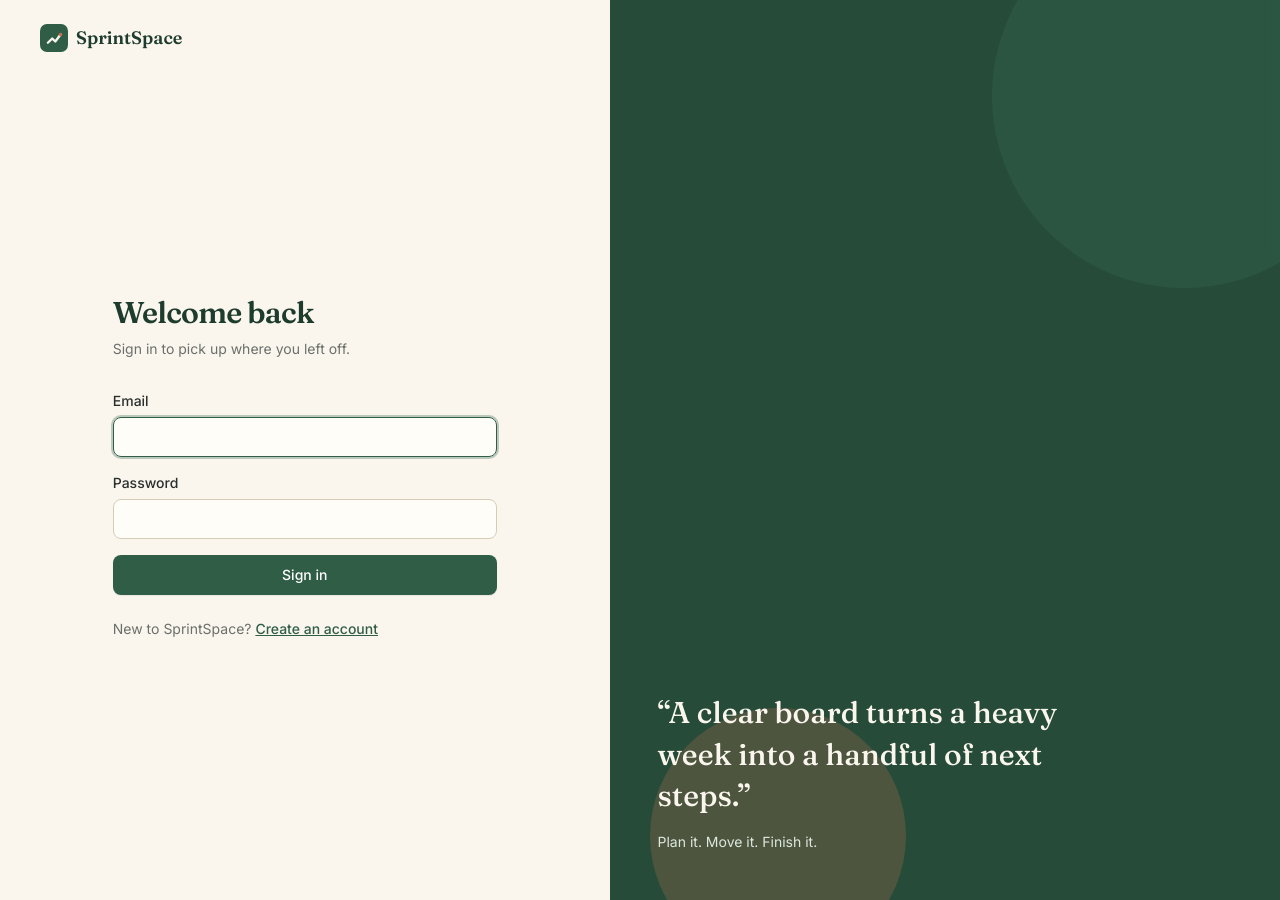
Test case: SignIn › shows the server message on bad credentials and prevents duplicate submits while pending
Type "ada@example.com" into the field labelled "Email". click: (305, 437)
box: x1=113 y1=417 x2=497 y2=457
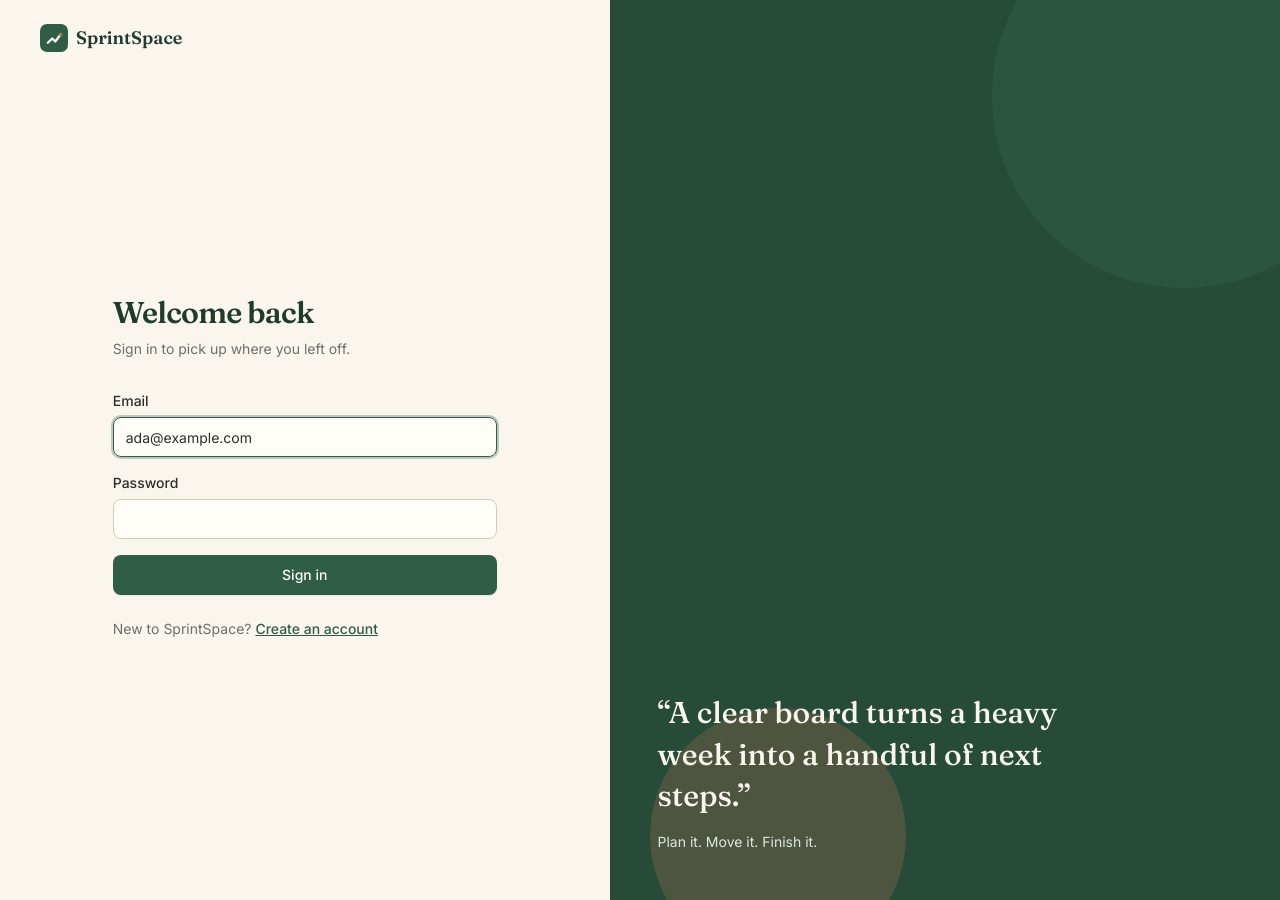
Type "wrongpass1" into the password field labelled "Password". click: (305, 519)
box: x1=113 y1=499 x2=497 y2=539
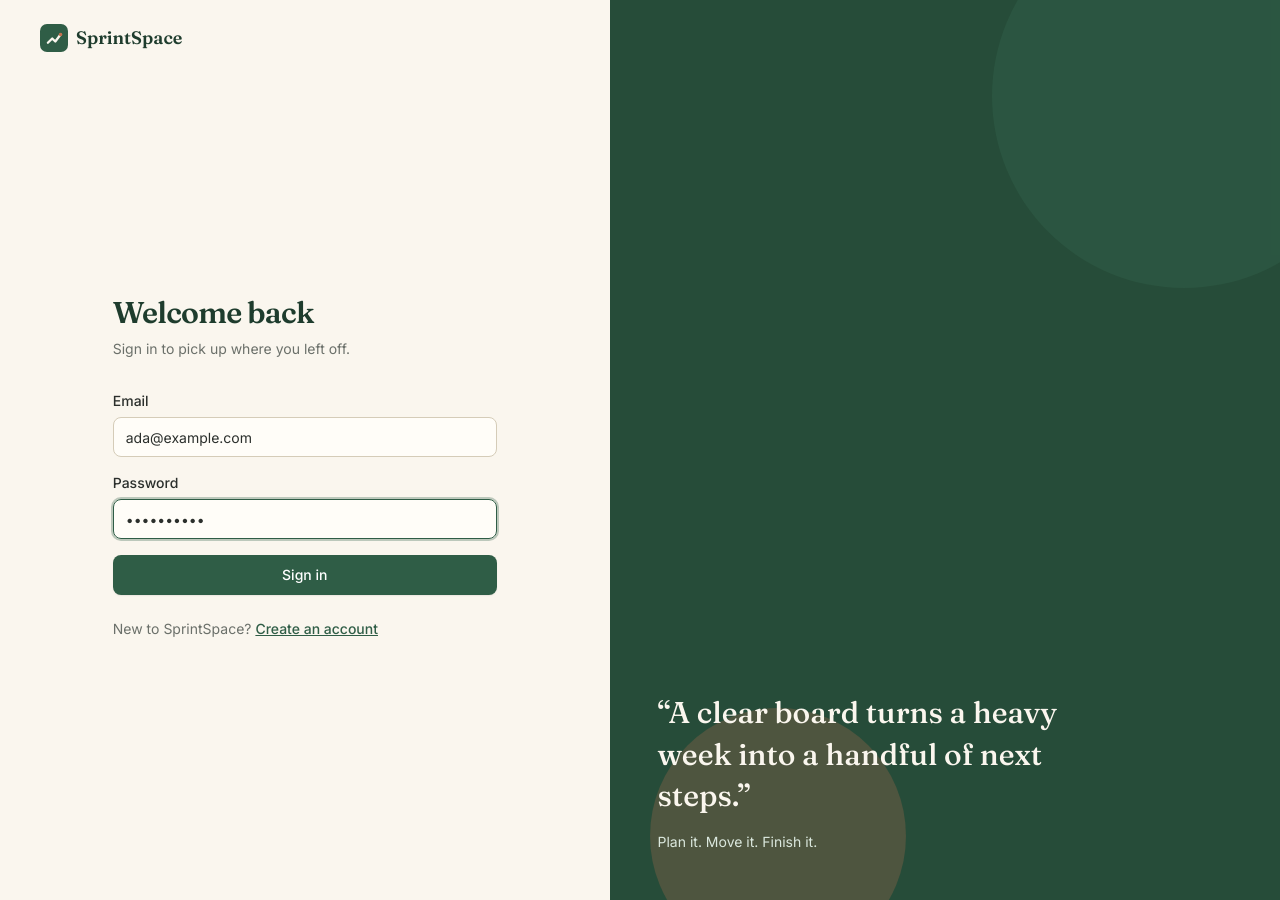
Click the button "Sign in". click: (305, 575)
box: x1=113 y1=555 x2=497 y2=595
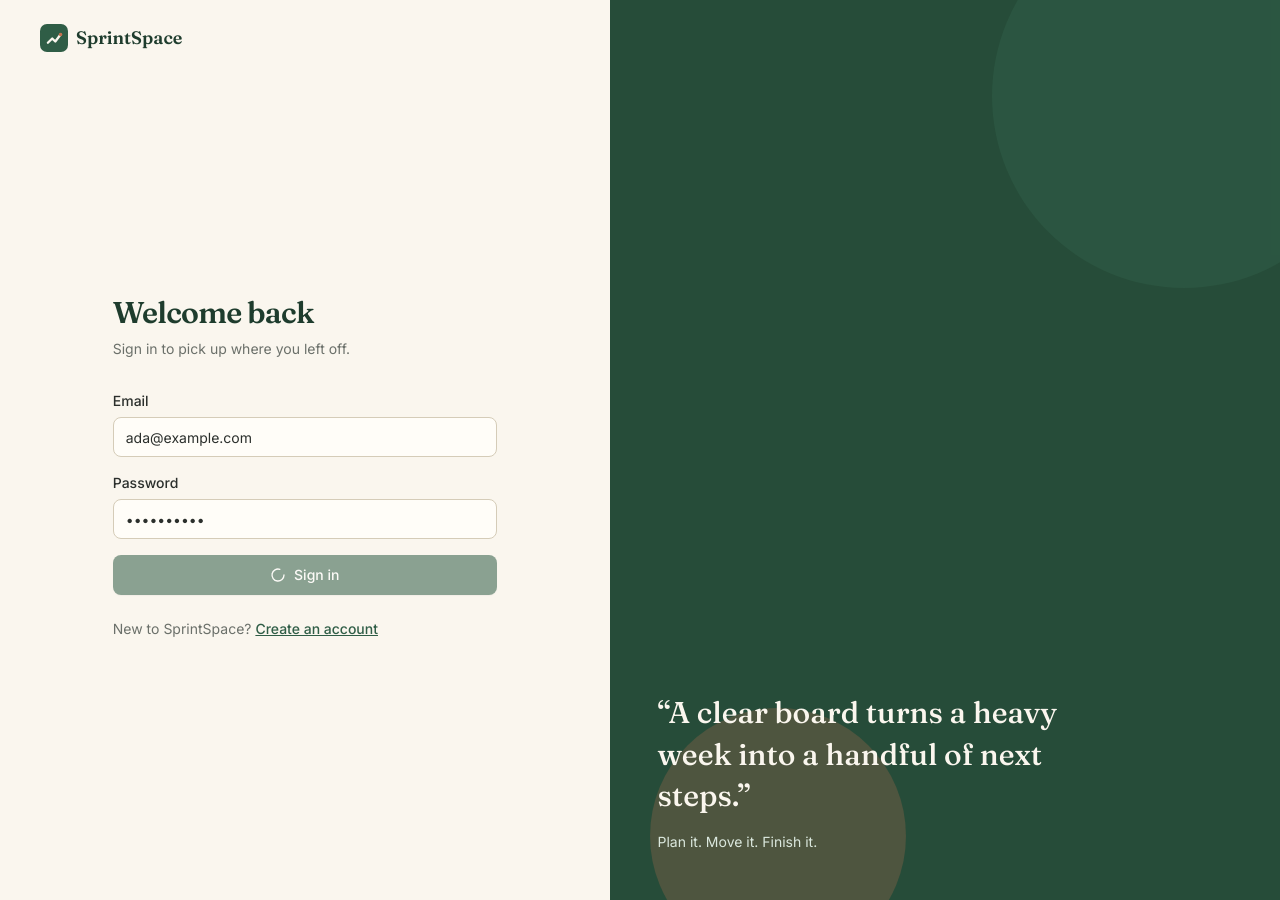
Result: the button "Sign in" is disabled
Click the button "Sign in". click: (305, 575)
box: x1=113 y1=555 x2=497 y2=595
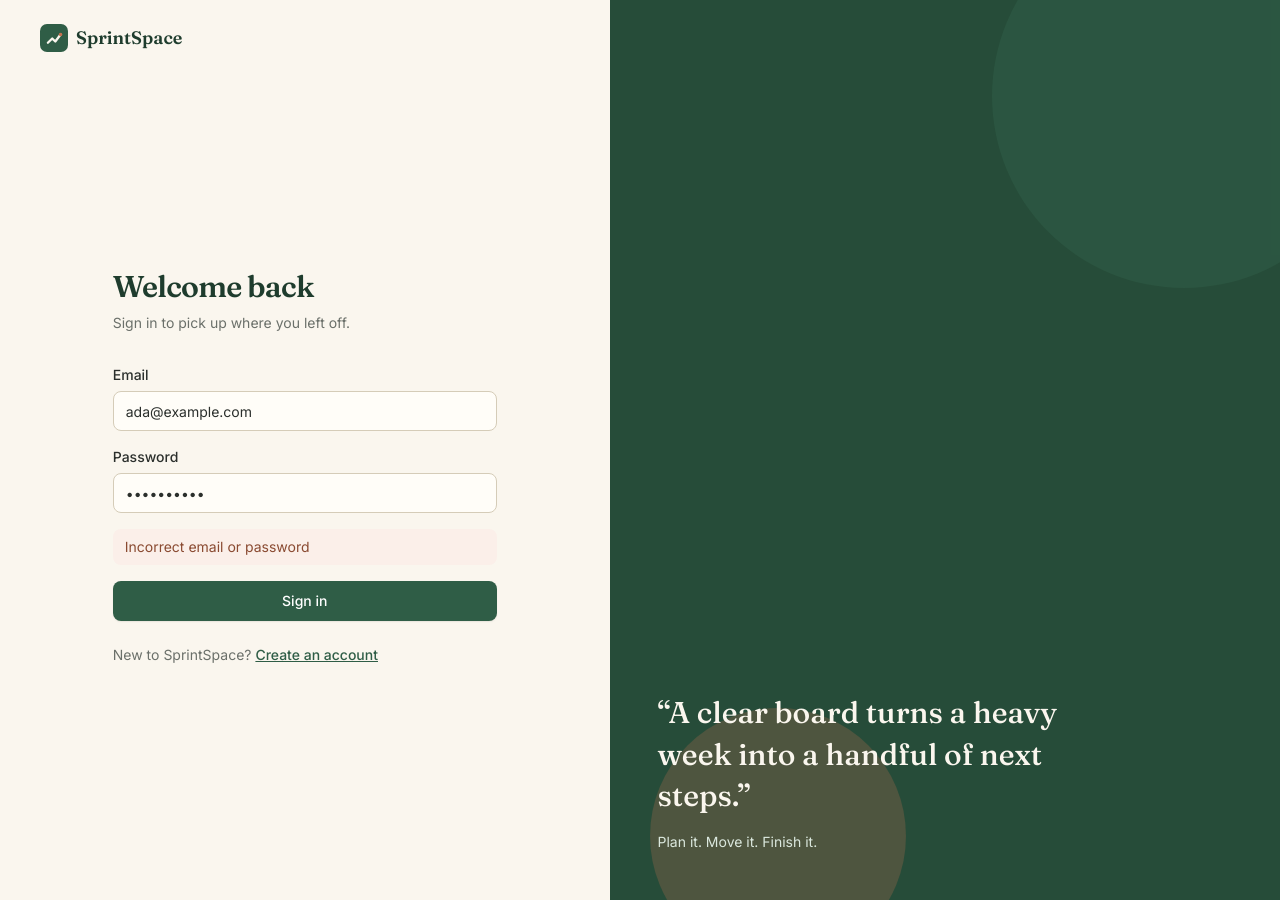
Result: the message reads "Incorrect email or password" at x1=125 y1=538 x2=310 y2=555
Result: the button "Sign in" is enabled at x1=113 y1=581 x2=497 y2=621
